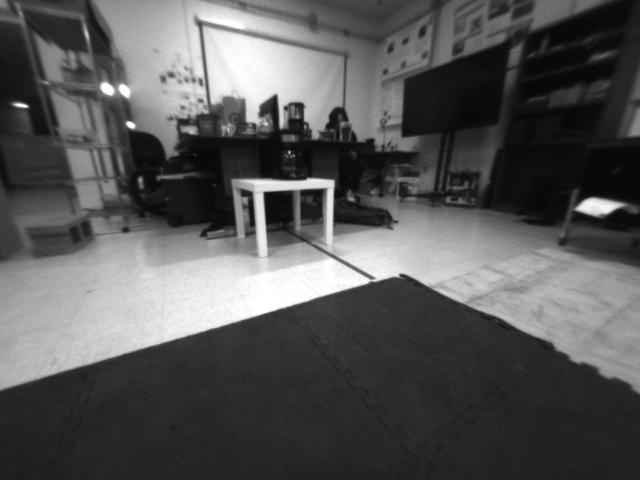coffee_pot: (266, 126, 312, 183)
